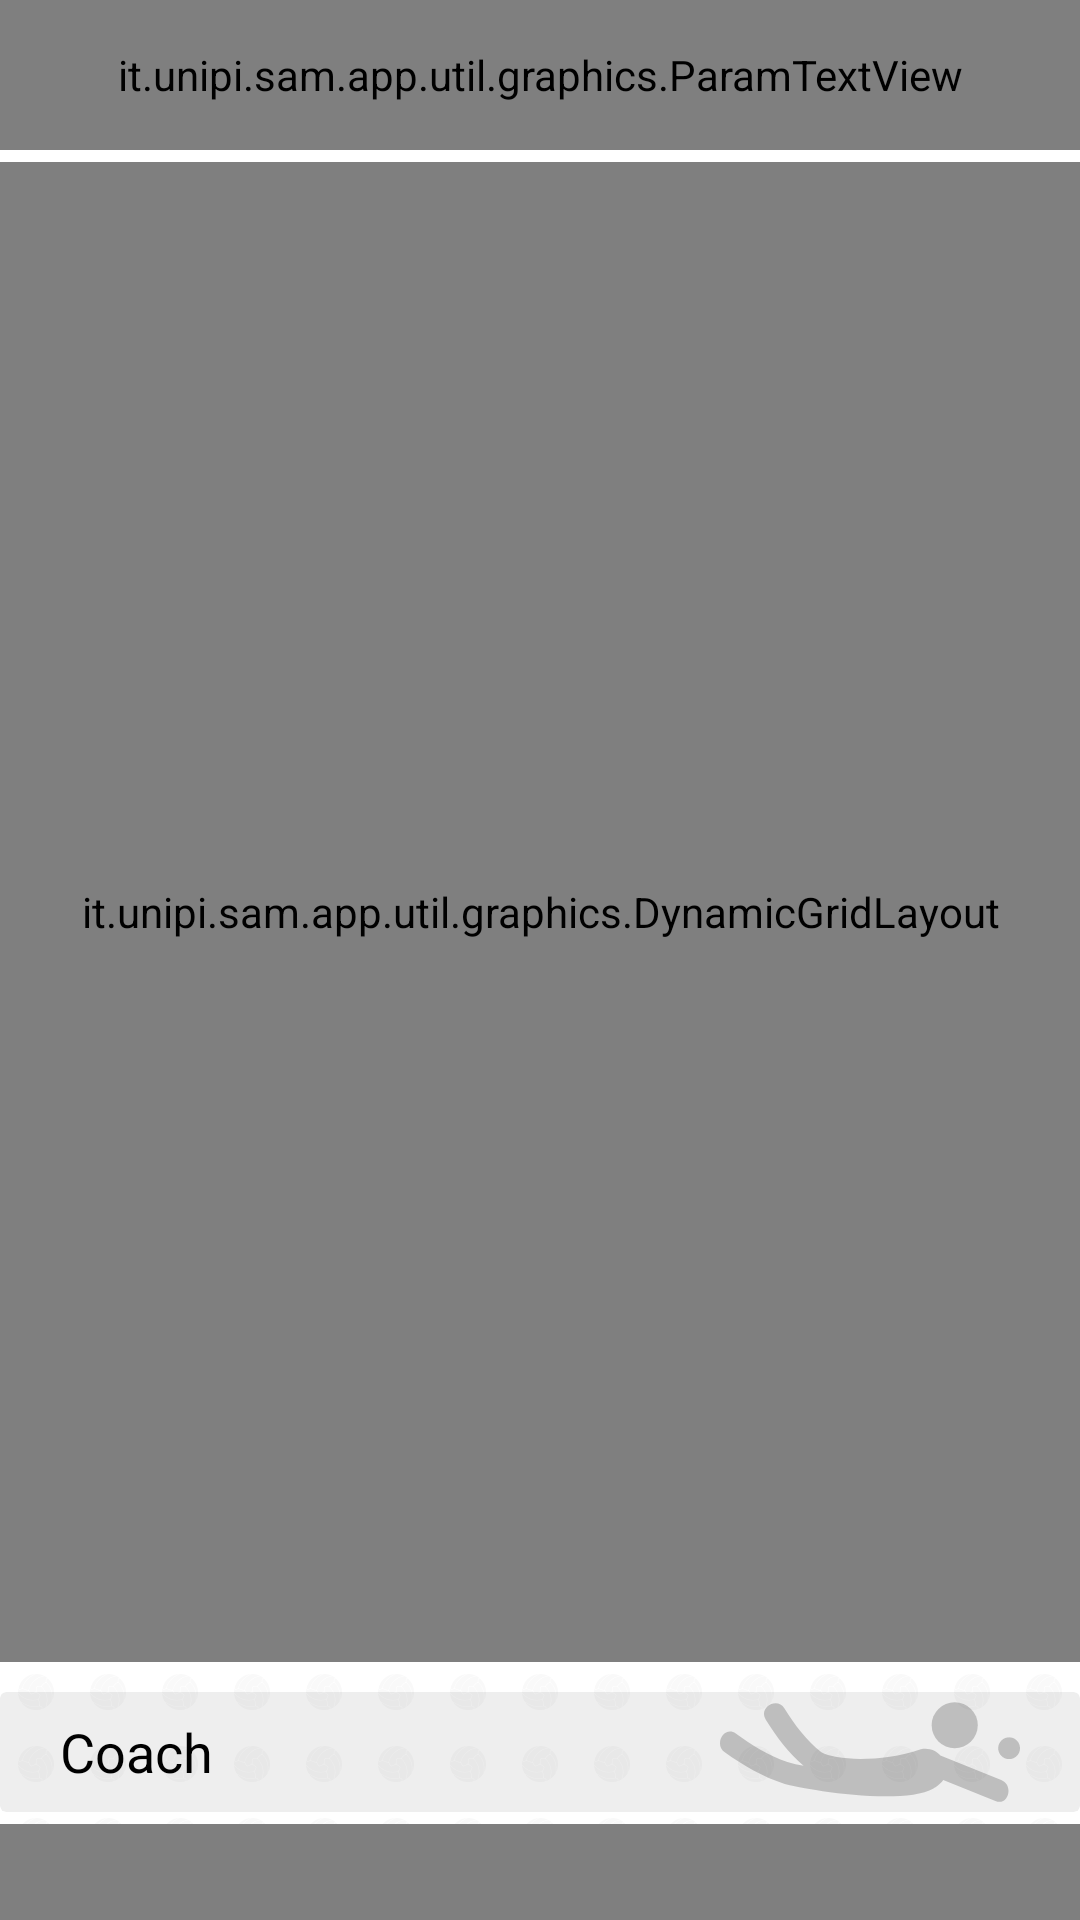

Where to tap for icons on this 1080 x 1920 app screen, as point (x, y):
tuffo: point (870, 1752)
